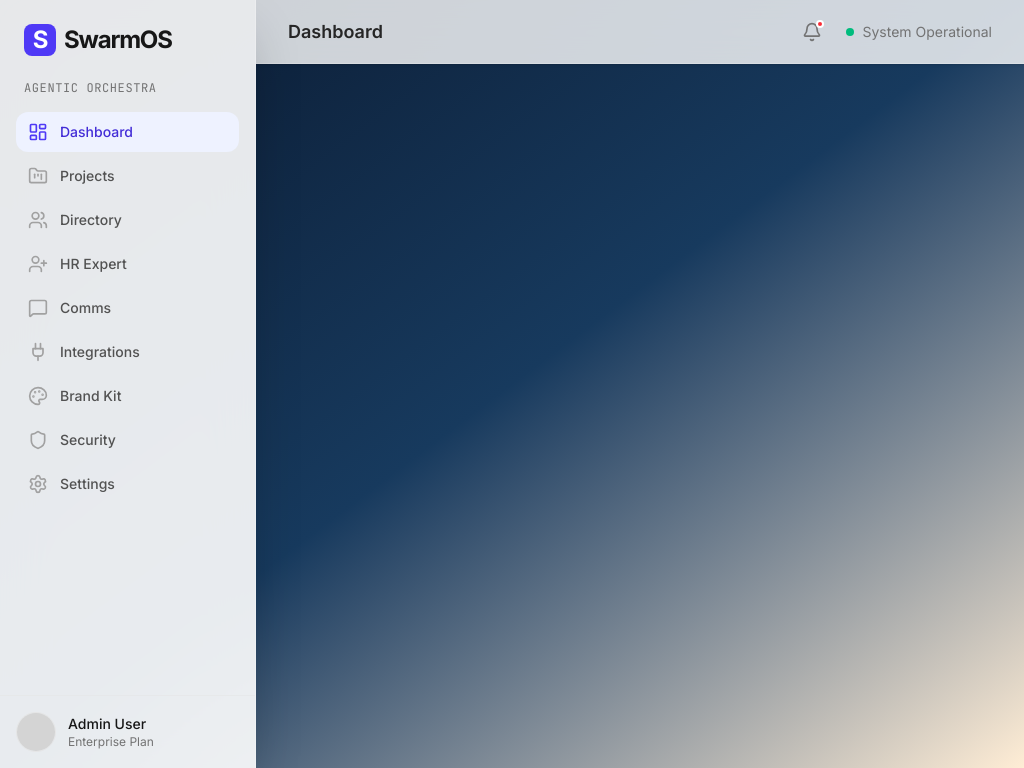
it: Layout component › opens notifications panel when bell icon is clicked
The width and height of the screenshot is (1024, 768).
Expected: the text "Notifications" is not shown
Click the button named "Open notifications" at (812, 32), box [794,14,830,50]
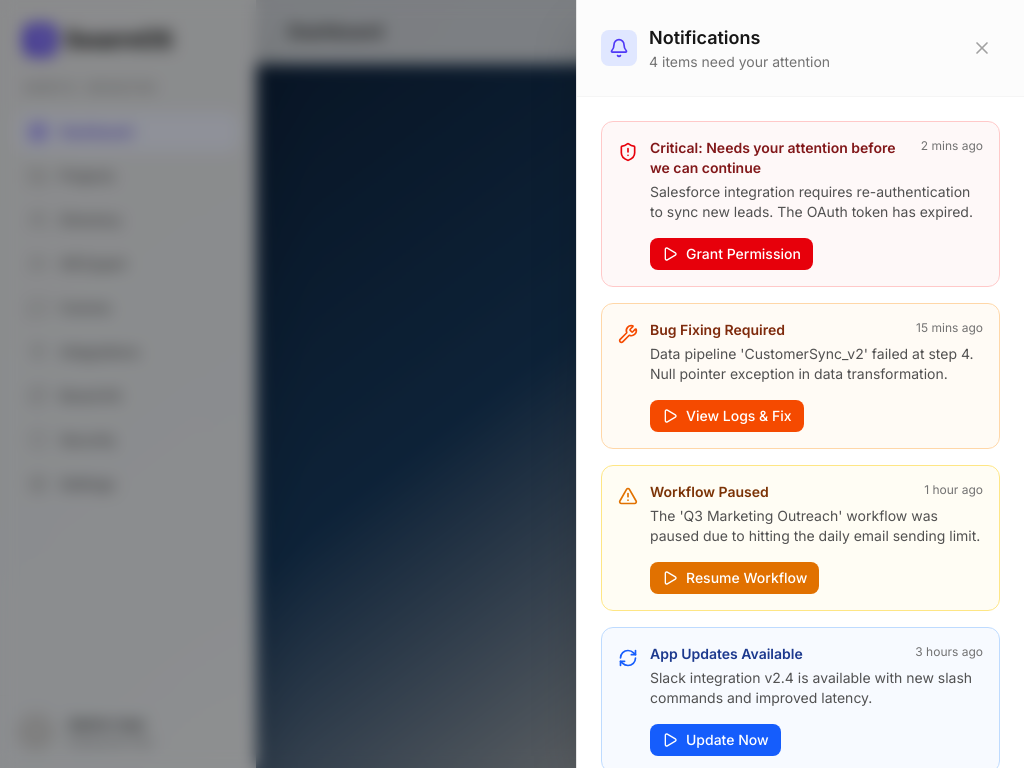
Expected: the heading "Notifications" is shown, [649,27,760,48]
